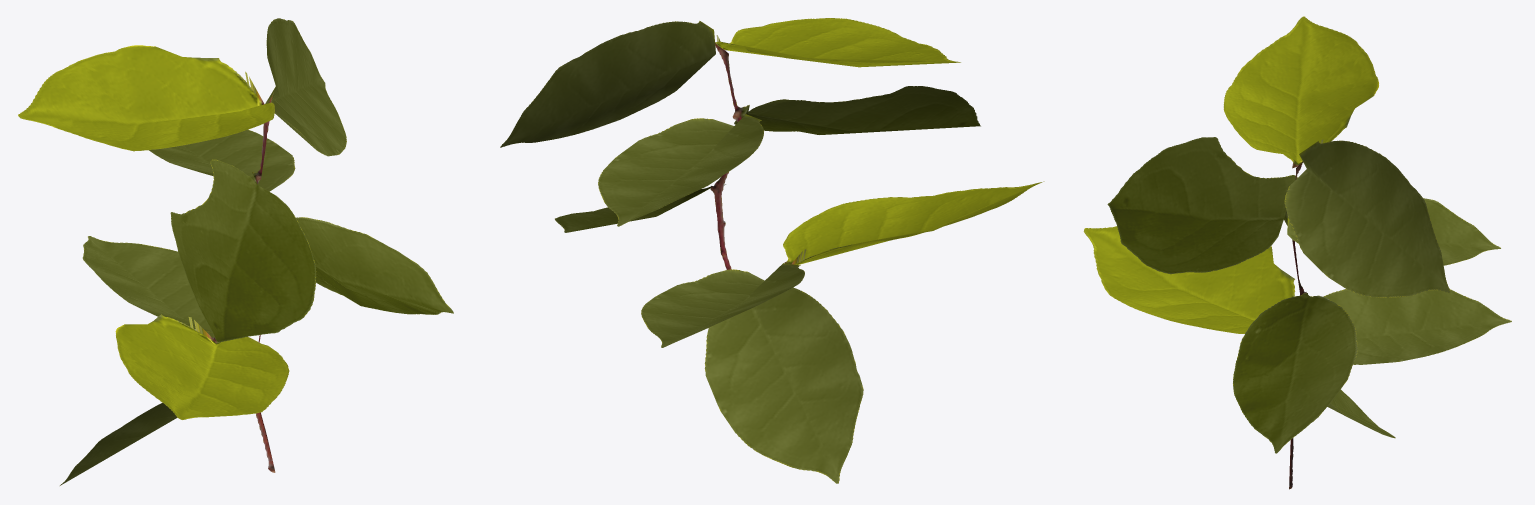
The model's file is PNW Plant_A_leaves_512.glb.
3 views of the same model, side by side, from view 1: azimuth 30°, elevation 25°; view 2: azimuth 150°, elevation 25°; view 3: azimuth 270°, elevation 25° (orthographic). The views are drawn at different scales.
Parts seen in each view (by area): view 1: Plant_ A_leaves_512; view 2: Plant_ A_leaves_512; view 3: Plant_ A_leaves_512.
Part boxes in pixels (<box>): Plant_ A_leaves_512: <box>18,18,453,485</box>; Plant_ A_leaves_512: <box>500,18,1044,483</box>; Plant_ A_leaves_512: <box>1083,16,1511,489</box>.
Bounding box in the file's own units: 0.3693 × 0.3341 × 0.3491.
1 material, 1 textured.
